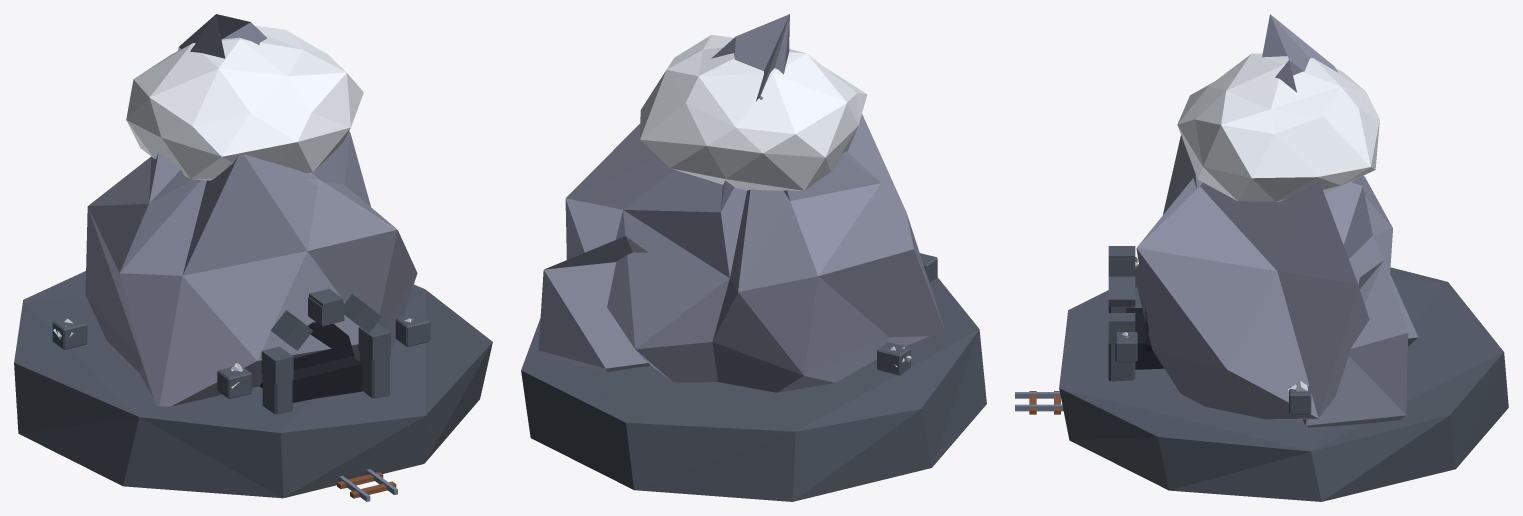
Rendered from SM_Mountain_Silver.fbx.
3 views of the same model, side by side, from view 1: azimuth 30°, elevation 25°; view 2: azimuth 150°, elevation 25°; view 3: azimuth 270°, elevation 25° (orthographic). The views are drawn at different scales.
Visible parts, largest first — view 1: SM_Mountain_Silver; view 2: SM_Mountain_Silver; view 3: SM_Mountain_Silver.
Boxes of the visible parts, x1,y1,x2,y2 form: SM_Mountain_Silver: (14,14,492,501); SM_Mountain_Silver: (521,14,986,501); SM_Mountain_Silver: (1015,14,1508,501).
Bounding box in the file's own units: 10.02 × 9.38 × 11.09.
